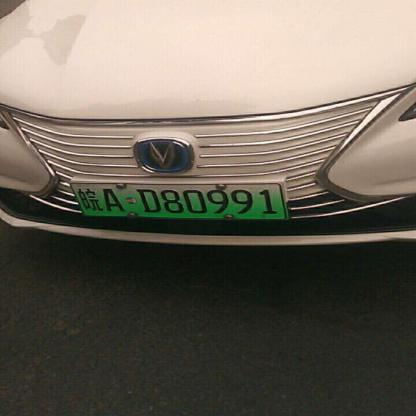lp: (71, 182, 285, 218)
